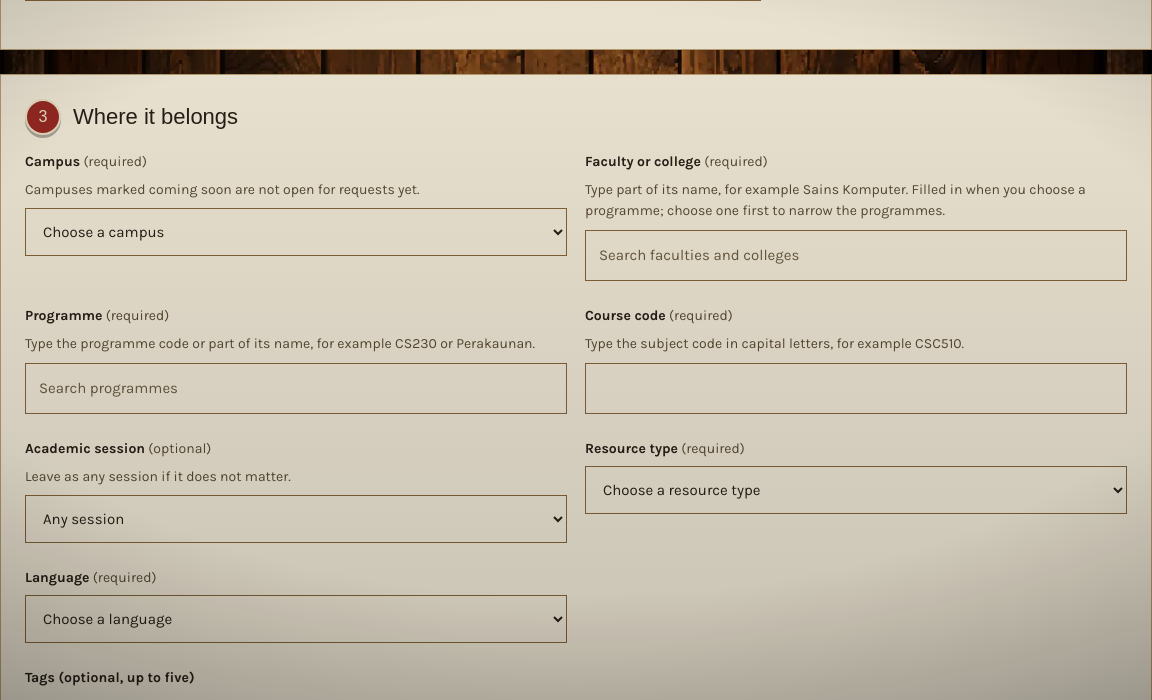
it: the intake form › takes the course code as typed, in capital letters
The width and height of the screenshot is (1152, 700).
(page scrolled)
Type "csc 510" into the dropdown labelled "Course code (required)" at (856, 388), box top-left (585, 363), bottom-right (1127, 414)
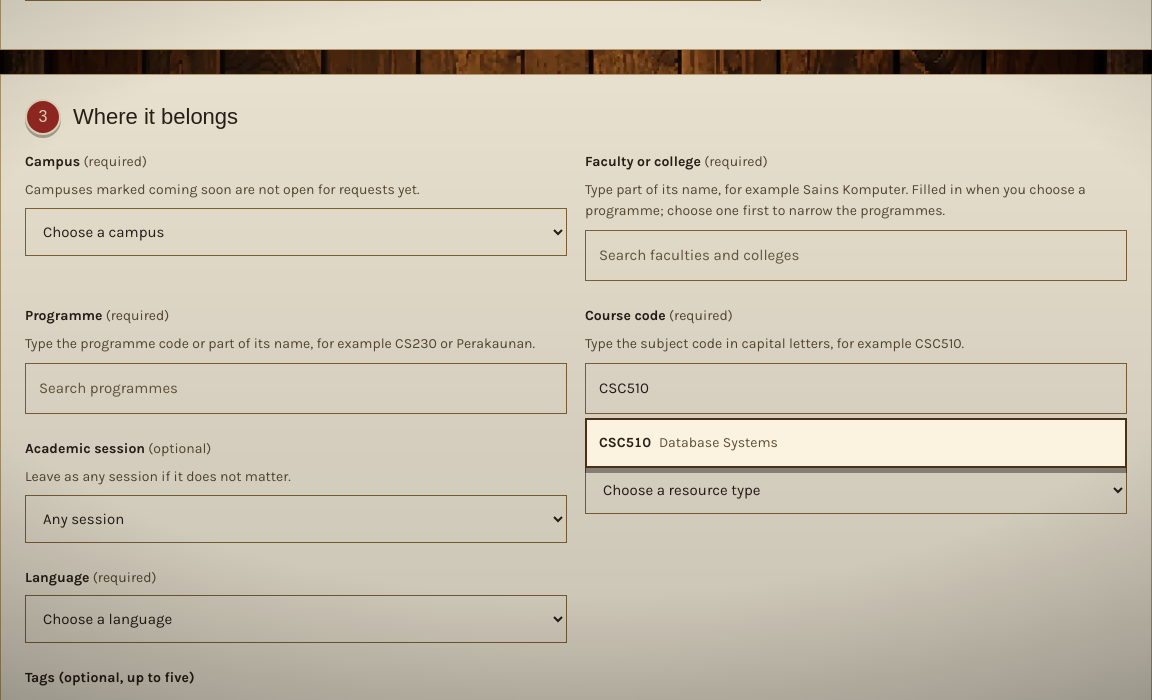
Expected: the dropdown labelled "Course code (required)" holds "CSC510", top-left (585, 363), bottom-right (1127, 414)
